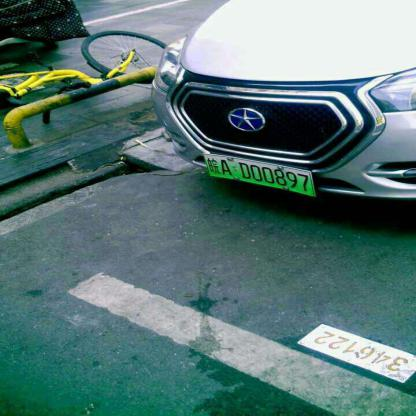lp: (200, 153, 318, 195)
